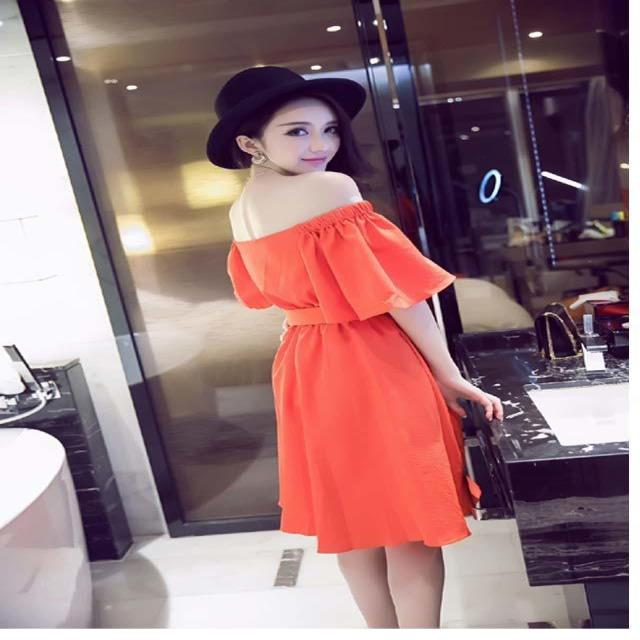long sleeve dress: (233, 202, 478, 547)
